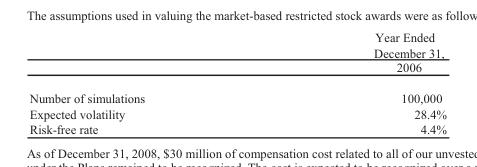table: (28, 29, 446, 135)
table column: (28, 29, 258, 135), (258, 29, 446, 135)
table column header: (28, 29, 446, 82)
table row: (28, 29, 446, 82), (28, 82, 446, 105), (28, 105, 446, 121), (28, 121, 446, 135)
